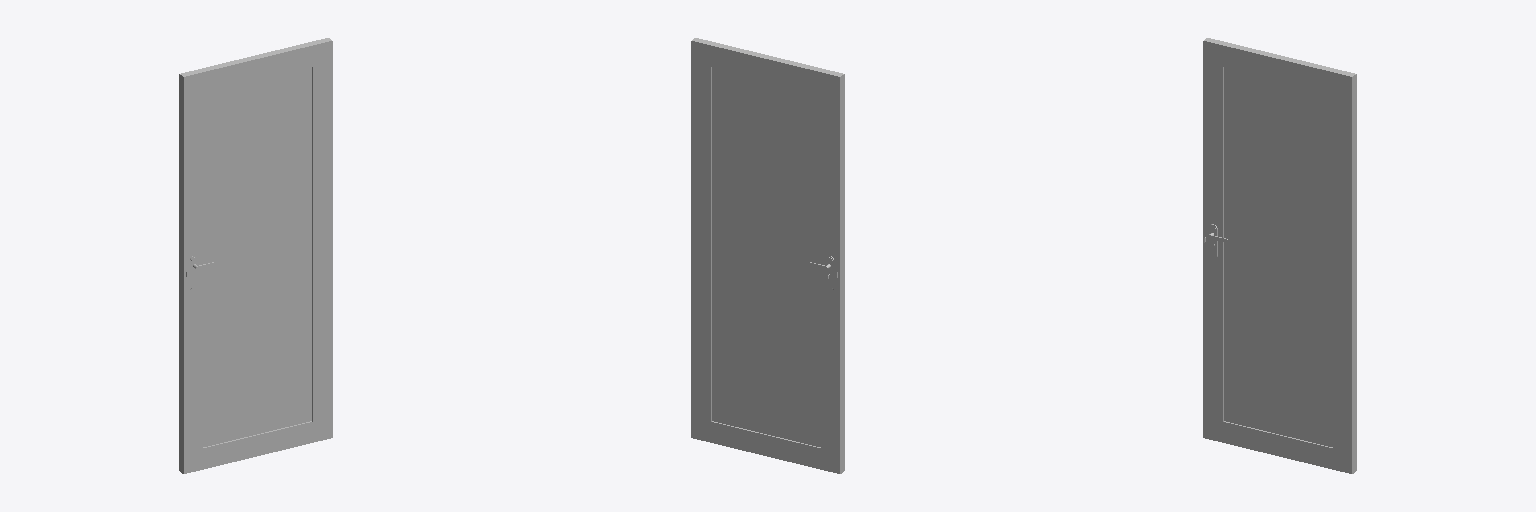
File: puertaHabitacion.obj
3 renders of one model, left to right at view 1: azimuth 30°, elevation 25°; view 2: azimuth 150°, elevation 25°; view 3: azimuth 330°, elevation 25°, orthographic.
Parts seen in each view (by area): view 1: SET_3_CLOSET:uploads_files_[number redacted]_untitled:uploads_files_422615; view 2: SET_3_CLOSET:uploads_files_[number redacted]_untitled:uploads_files_422615; view 3: SET_3_CLOSET:uploads_files_[number redacted]_untitled:uploads_files_422615.
Part boxes in pixels (x1,y1,x2,y2): SET_3_CLOSET:uploads_files_[number redacted]_untitled:uploads_files_422615: (179,38,332,473); SET_3_CLOSET:uploads_files_[number redacted]_untitled:uploads_files_422615: (691,38,844,473); SET_3_CLOSET:uploads_files_[number redacted]_untitled:uploads_files_422615: (1203,38,1356,473).
Bounding box in the file's own units: 0.8176 × 2.09 × 0.1191.